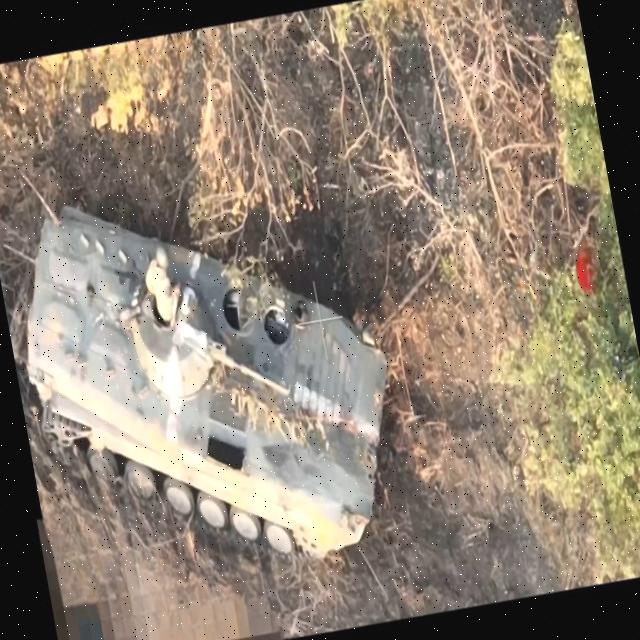AIFV: (1, 149, 420, 611)
